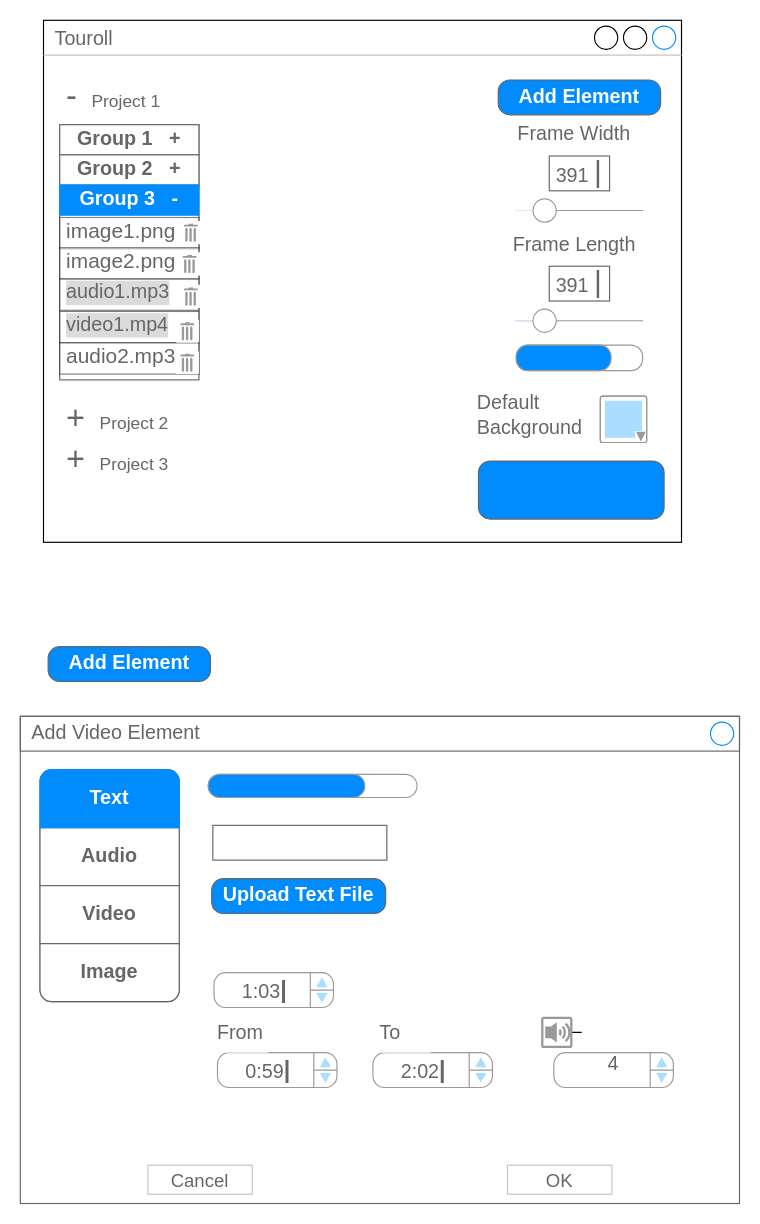
This 760x1224 diagram has some shape labels left out. Here are the shapes that lost their labels. From the top down, the centre of each, then its label:
At pixel 579 357: "Lock".
At pixel 570 489: "Generate Video".
At pixel 312 785: "Speak Text".
At pixel 299 842: "Type text here".
At pixel 257 953: "Duration".
At pixel 637 1034: "Text volume".
